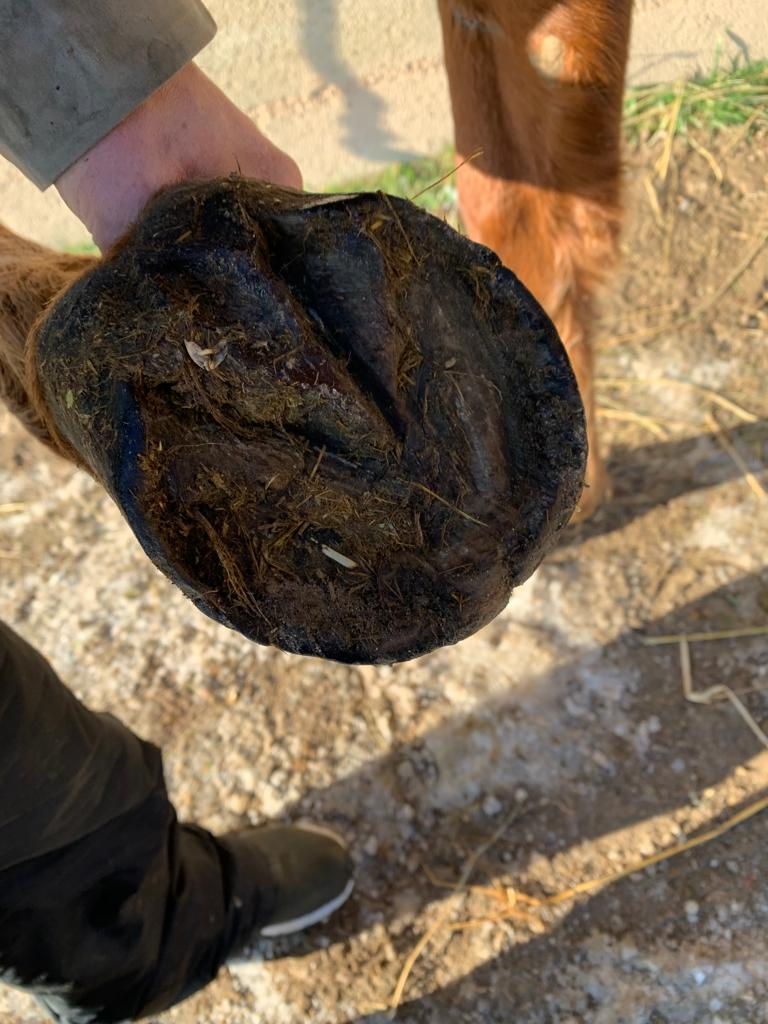horsesole: (101, 191, 591, 663)
